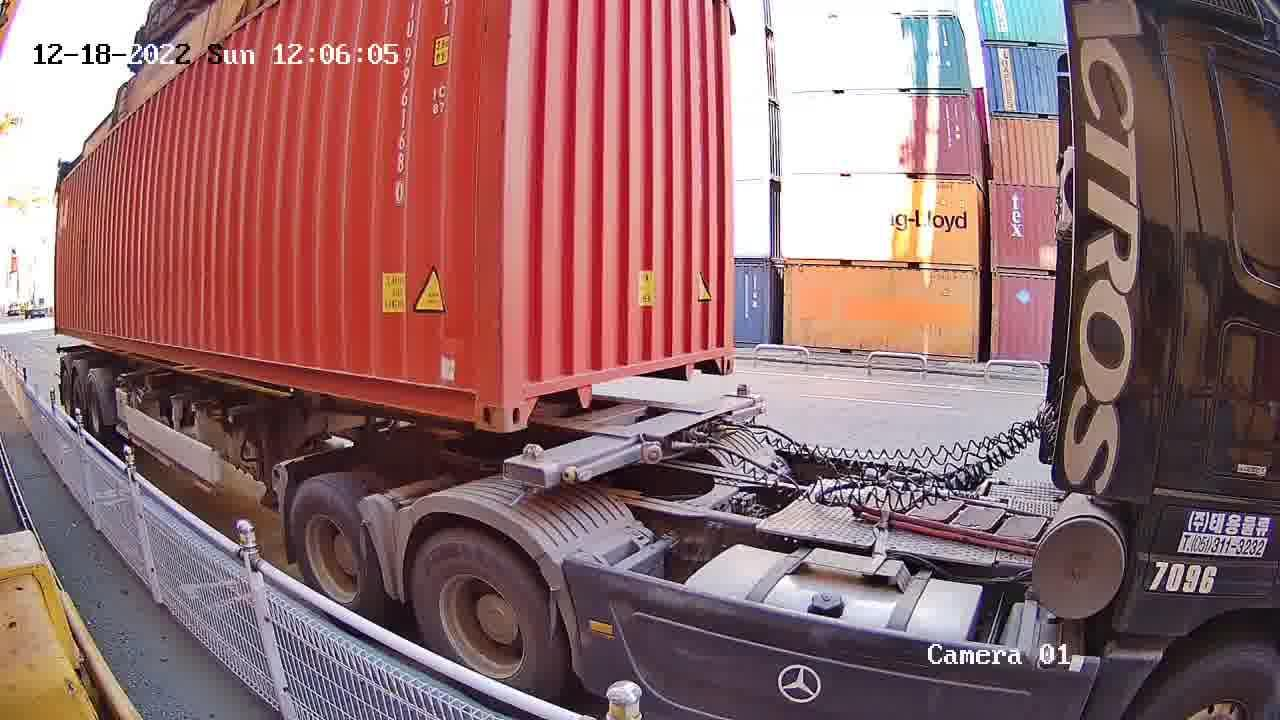Chassis: (506, 393, 765, 482)
Hole_L: (505, 354, 555, 432)
Hole_R: (442, 349, 505, 434), (695, 325, 736, 380)
Tire: (412, 531, 549, 689), (290, 479, 383, 611)
